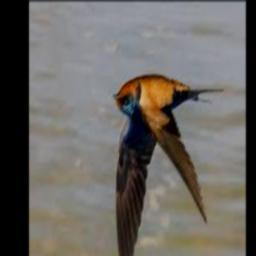Swallow: (112, 76, 224, 256)
